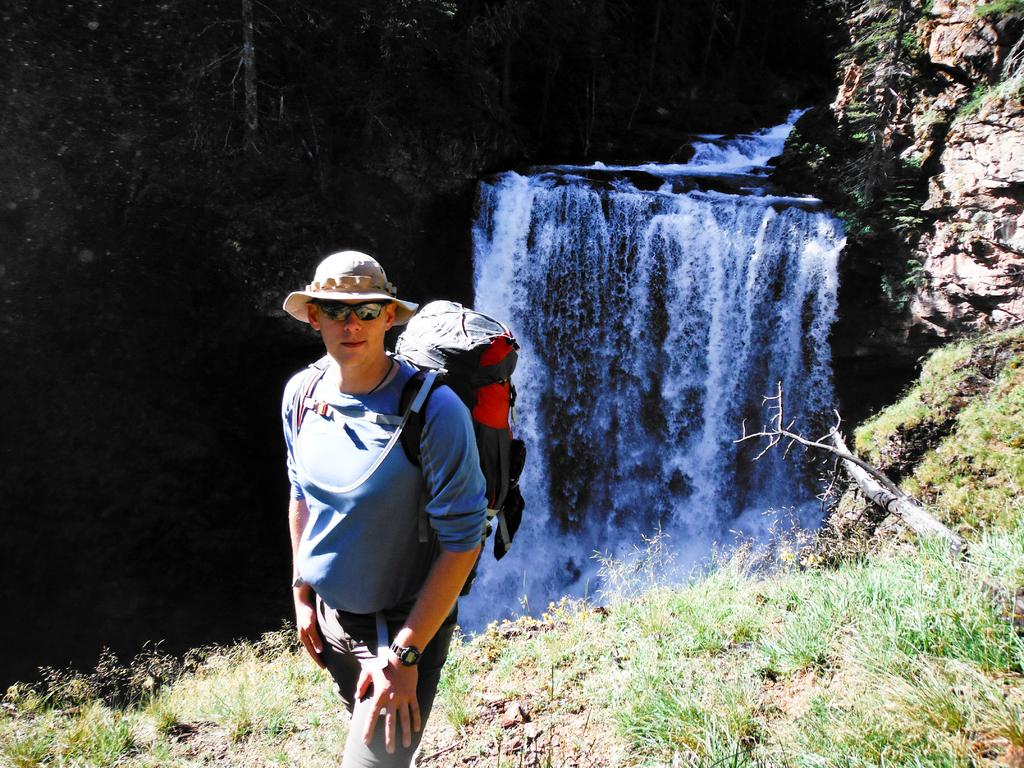Hat: (281, 252, 419, 322)
